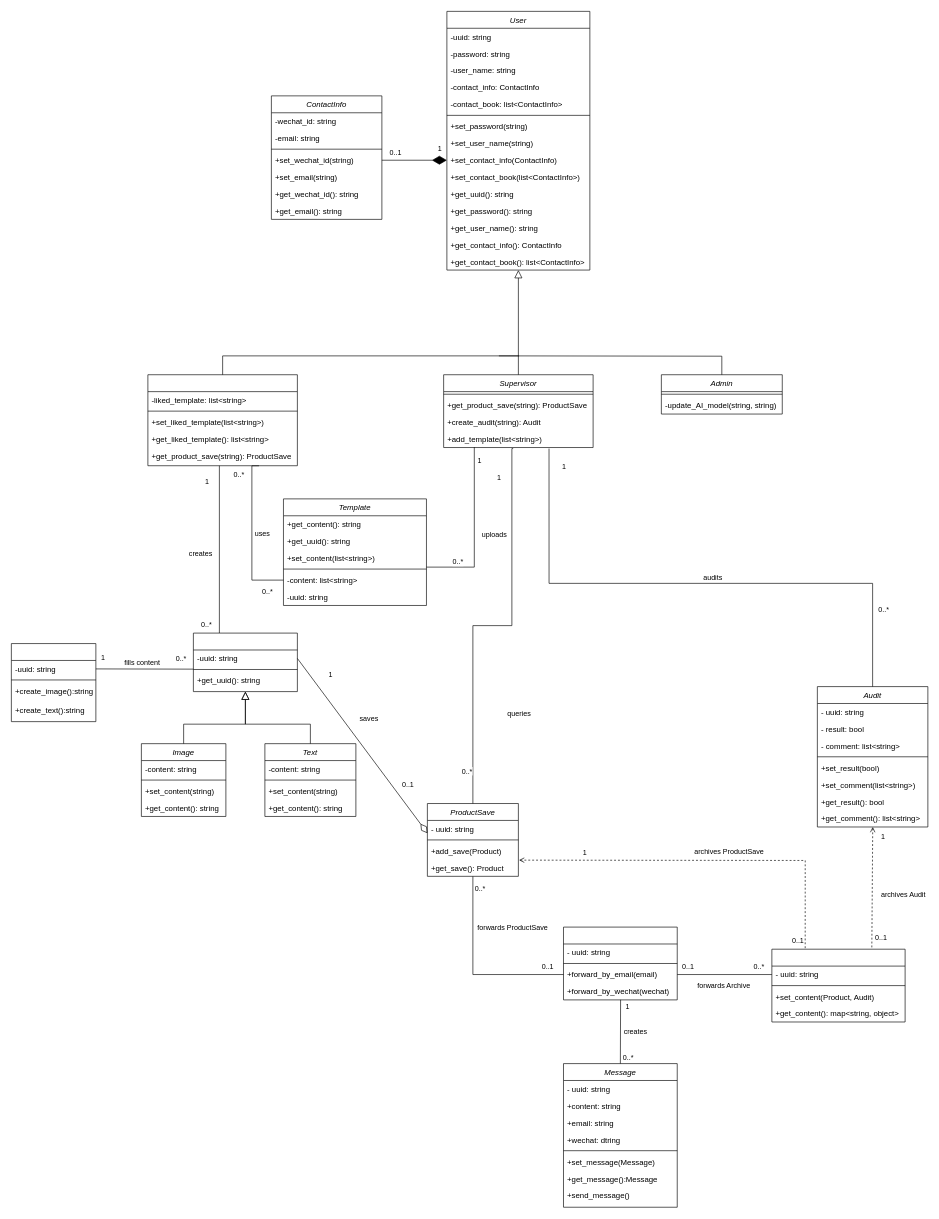
The diagram is 939 pixels wide and 1219 high, and some of its shapes have lost their labels. The box of each missing label's shape, as (x1, y1, x2, y2) in pixels:
Archive: (771, 949, 905, 1022)
Creator: (147, 374, 297, 466)
ForwardService: (563, 926, 677, 1000)
LLMService: (11, 643, 96, 722)
Product: (193, 632, 297, 692)
